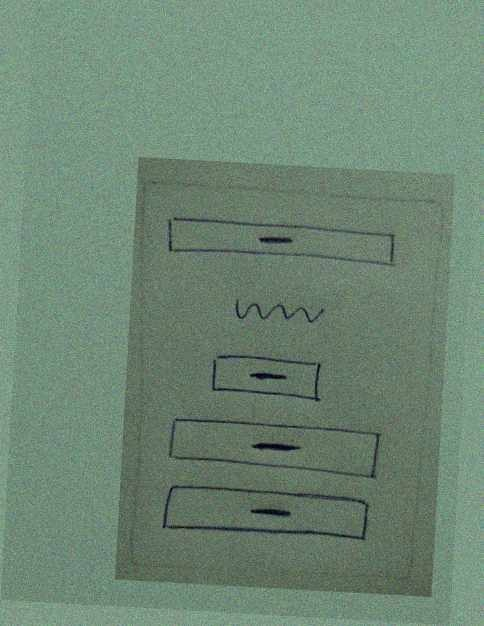button: (160, 411, 389, 485), (161, 211, 404, 280), (158, 480, 376, 548), (204, 349, 329, 411)
text: (228, 288, 327, 337)
